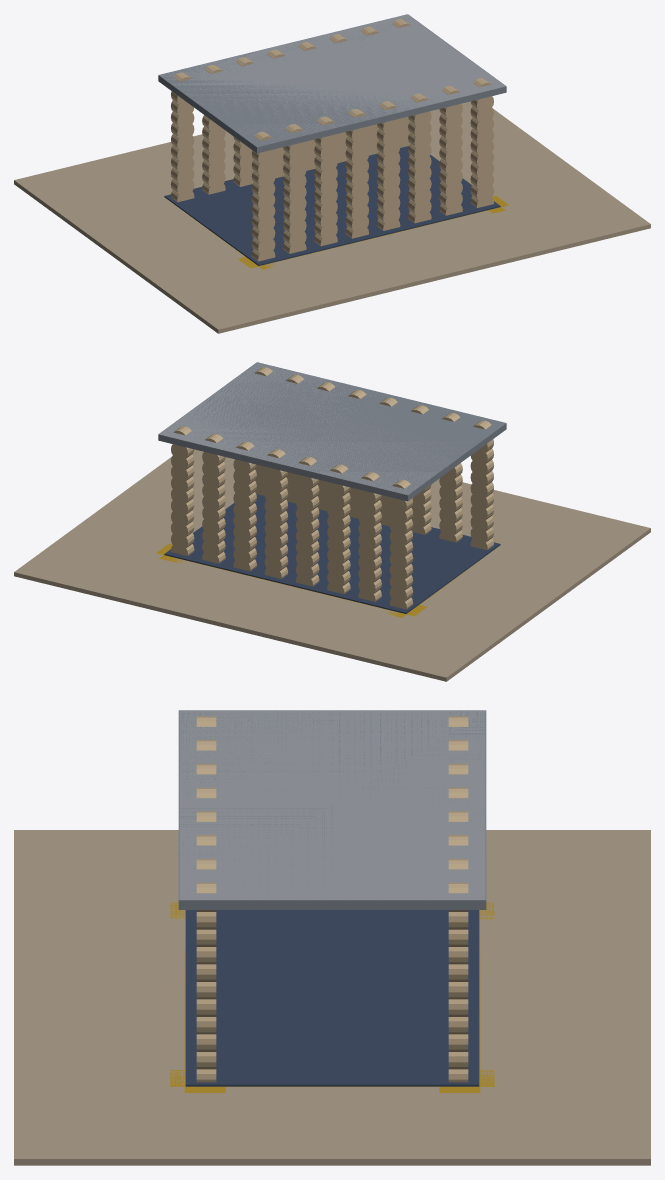
Rendered from stage_08_bands.glb.
The picture shows the model from 3 angles, top to bottom: view 1: azimuth 30°, elevation 25°; view 2: azimuth 150°, elevation 25°; view 3: azimuth 270°, elevation 25°; orthographic projection. The views are drawn at different scales.
Parts seen in each view (by area): view 1: world; view 2: world; view 3: world.
Part boxes in pixels (x1=…): world: x1=14, y1=14, x2=650, y2=333; world: x1=14, y1=362, x2=650, y2=681; world: x1=14, y1=710, x2=650, y2=1165.
Bounding box in the file's own units: 11 × 3.82 × 9.
